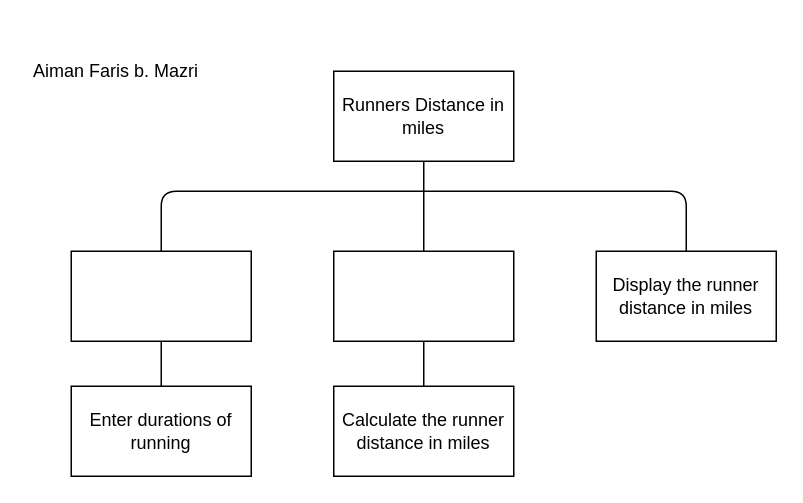
Some shapes in this 803 by 503 pixel diagram are drawn without their labels. The shapes that lost their labels are listed below. From the top down, each one's centre as x and y in pixels, then its label:
At pixel 160 295: "Enter steps in one minute".
At pixel 423 295: "Calculate the velocity of runner".
